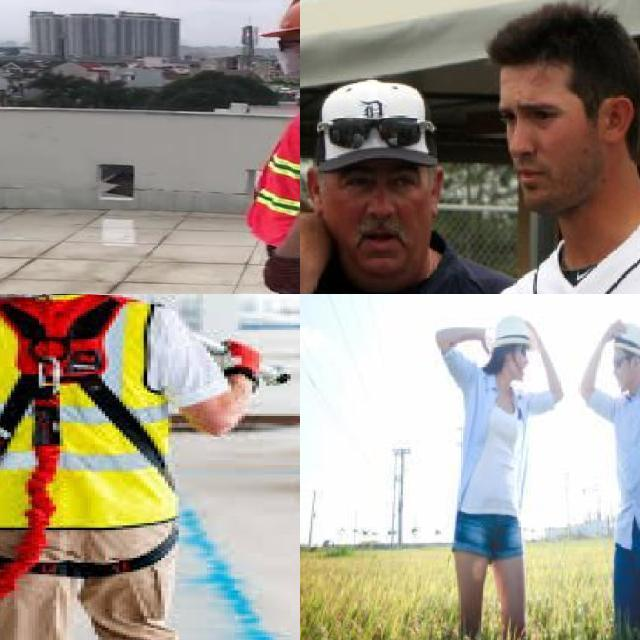Harness: (0, 295, 171, 482)
face_mask: (265, 31, 300, 82)
face_nomask: (328, 165, 426, 261), (500, 95, 574, 193), (610, 348, 632, 392), (511, 341, 531, 379)
glasses: (317, 107, 438, 150), (612, 354, 628, 370)
hand_glove: (263, 254, 300, 294)
head_helmet: (259, 0, 300, 41)
head_nohelmet: (309, 86, 446, 174), (492, 0, 629, 81), (488, 312, 540, 348), (611, 320, 640, 356)
person: (300, 81, 557, 294), (456, 0, 640, 294), (431, 308, 562, 640), (222, 0, 300, 294), (577, 312, 640, 640)
vest: (243, 83, 300, 252)
